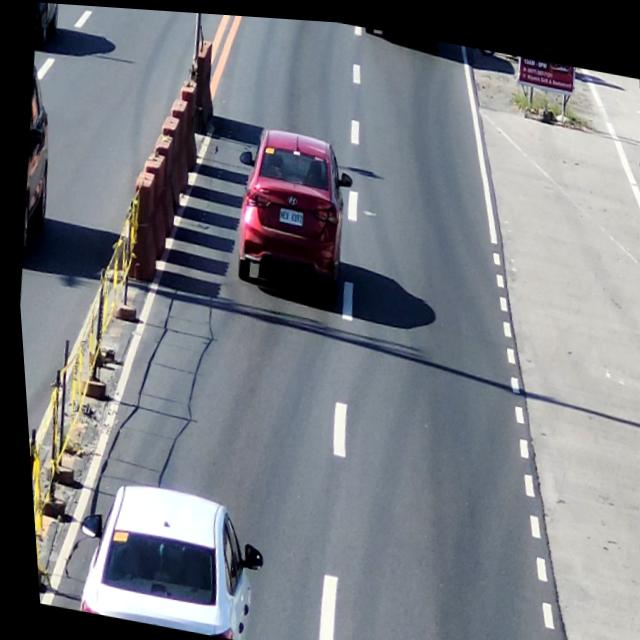Car: (64, 472, 260, 640), (225, 120, 358, 303), (9, 63, 64, 260), (32, 2, 66, 47)
License-Plate: (274, 201, 305, 227)
